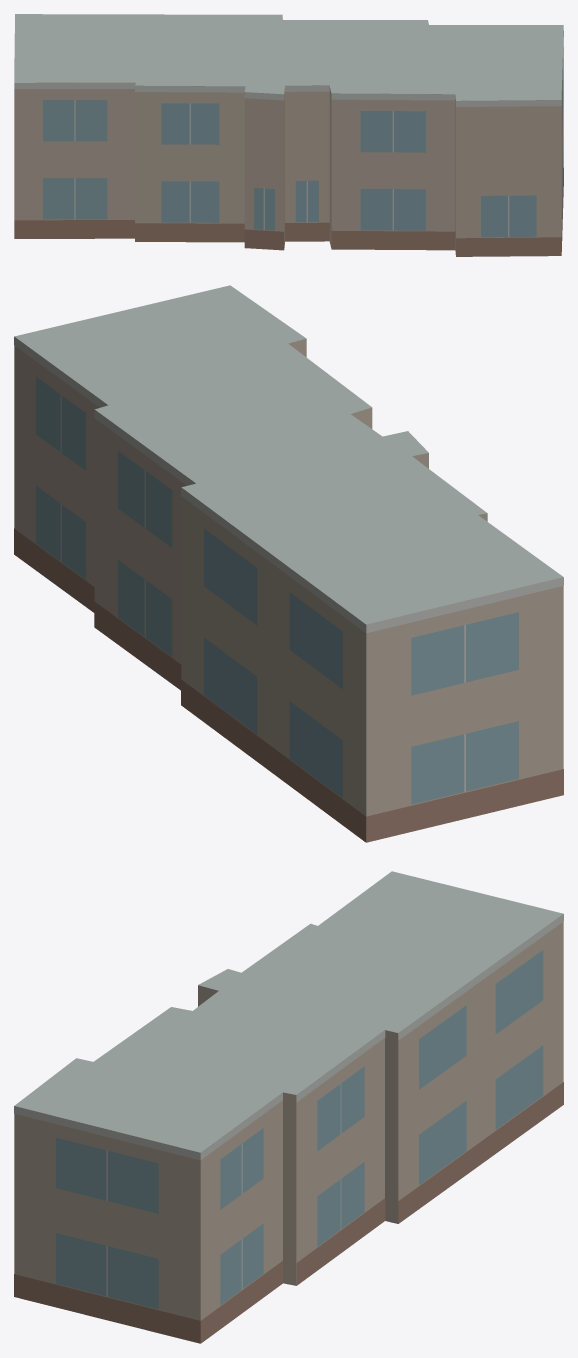
File: survey-upis-32661754.glb
The picture shows the model from 3 angles, top to bottom: view 1: azimuth 30°, elevation 25°; view 2: azimuth 150°, elevation 25°; view 3: azimuth 270°, elevation 25°; orthographic projection. The views are drawn at different scales.
Parts seen in each view (by area): view 1: survey-upis-32661754.tmp; view 2: survey-upis-32661754.tmp; view 3: survey-upis-32661754.tmp.
Boxes of the visible parts, x1,y1,x2,y2 form: survey-upis-32661754.tmp: (14,14,563,256); survey-upis-32661754.tmp: (14,285,563,842); survey-upis-32661754.tmp: (14,871,563,1343).
Size of the model in its own units: 19.3 by 6.1 by 15.92.
